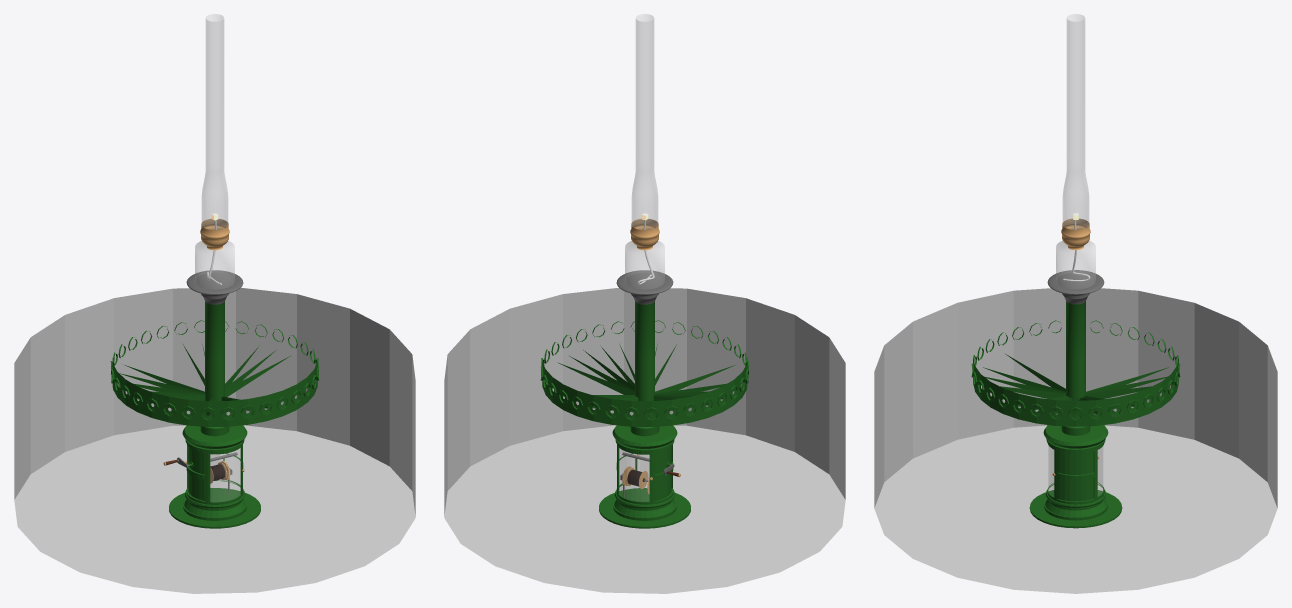
File: mechanical _room.glb
3 renders of one model, left to right at view 1: azimuth 30°, elevation 25°; view 2: azimuth 150°, elevation 25°; view 3: azimuth 270°, elevation 25°, orthographic.
Parts seen in each view (by area): view 1: Mechanical room, Clockwork-cabinet, Oil-lamp, Turn mechanism_door 2; view 2: Mechanical room, Clockwork-cabinet, Oil-lamp, Turn mechanism_door 1; view 3: Mechanical room, Clockwork-cabinet, Oil-lamp.
Boxes of the visible parts, box(x1,y1,x2,y2) form: Mechanical room: box(14, 287, 415, 593); Clockwork-cabinet: box(110, 320, 319, 528); Oil-lamp: box(186, 14, 243, 361); Turn mechanism_door 2: box(207, 445, 244, 504); Mechanical room: box(444, 287, 845, 593); Clockwork-cabinet: box(540, 320, 749, 528); Oil-lamp: box(616, 14, 673, 361); Turn mechanism_door 1: box(617, 445, 652, 504); Mechanical room: box(874, 288, 1277, 593); Clockwork-cabinet: box(971, 320, 1180, 528); Oil-lamp: box(1047, 14, 1104, 361).
Size of the model in its own units: 4 by 5.37 by 4.
